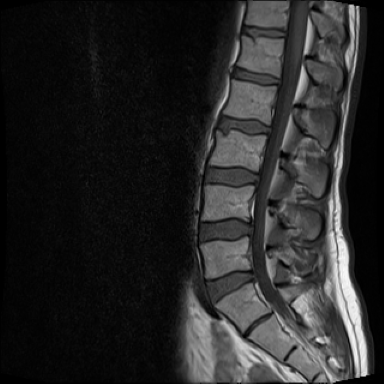Normal IVD: (198, 260, 259, 310), (189, 213, 257, 244), (212, 107, 274, 139), (198, 160, 263, 189), (224, 61, 283, 89), (234, 21, 289, 40)
